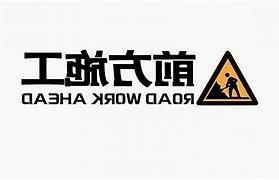sign: (17, 43, 259, 107)
